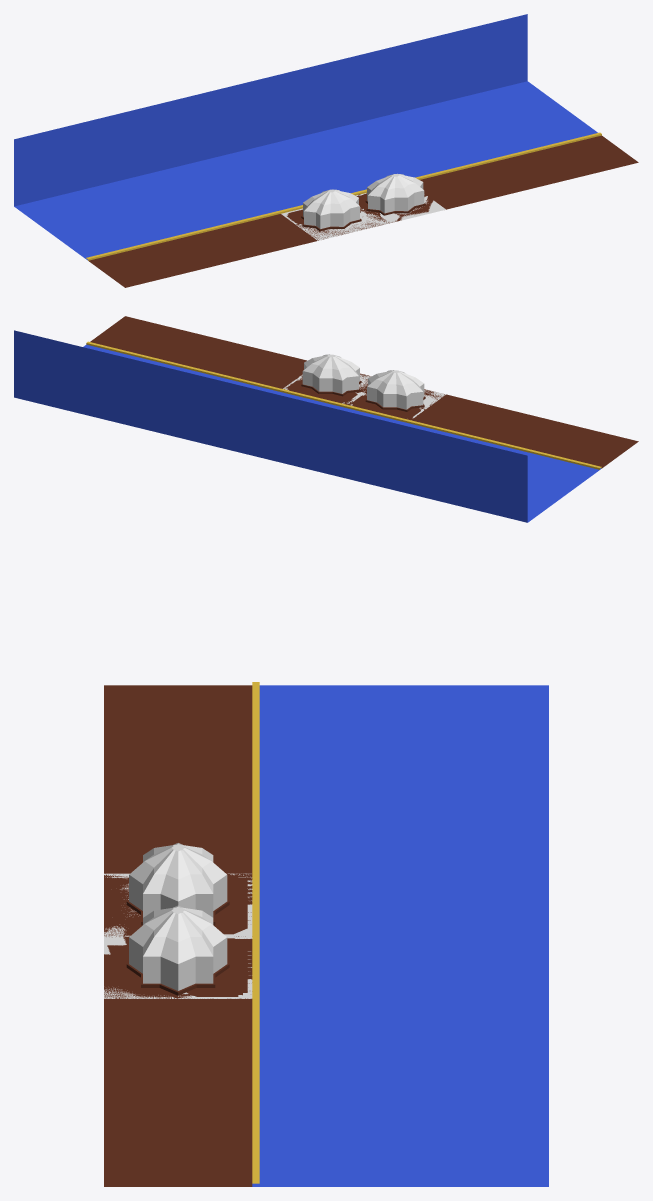
Rendered from Domes 1-1.fbx.
3 renders of one model, top to bottom at view 1: azimuth 30°, elevation 25°; view 2: azimuth 150°, elevation 25°; view 3: azimuth 270°, elevation 25°, orthographic. The views are drawn at different scales.
Visible parts, largest first — view 1: Stage_Main, Stage_DiceBoard, Stage_StarTrays.002, Dome_R, Dome_L, Stage_StarTrays, Stage_DiceBoardComplete; view 2: Stage_Main, Stage_DiceBoard, Stage_StarTrays.002, Dome_L, Dome_R, Stage_StarTrays, Stage_DiceBoardComplete; view 3: Stage_Main, Stage_DiceBoard, Stage_StarTrays.002, Stage_StarTrays, Dome_R, Dome_L, Stage_DiceBoardComplete.
Part boxes in pixels (x1,y1,x2,y2): Stage_Main: (14,14,597,260); Stage_DiceBoard: (86,132,638,287); Stage_StarTrays.002: (86,133,636,287); Dome_R: (367,173,424,213); Dome_L: (303,189,359,228); Stage_StarTrays: (287,193,433,240); Stage_DiceBoardComplete: (299,196,445,240); Stage_Main: (14,330,601,522); Stage_DiceBoard: (86,316,638,469); Stage_StarTrays.002: (87,316,634,469); Dome_L: (367,370,424,409); Dome_R: (302,354,359,393); Stage_StarTrays: (284,373,444,420); Stage_DiceBoardComplete: (300,374,445,407); Stage_Main: (252,685,548,1186); Stage_DiceBoard: (104,682,259,1186); Stage_StarTrays.002: (104,682,259,1186); Stage_StarTrays: (104,873,252,998); Dome_R: (129,905,227,990); Dome_L: (129,843,227,917); Stage_DiceBoardComplete: (104,873,177,998).
Bounding box in the file's own units: 800 × 300 × 111.
